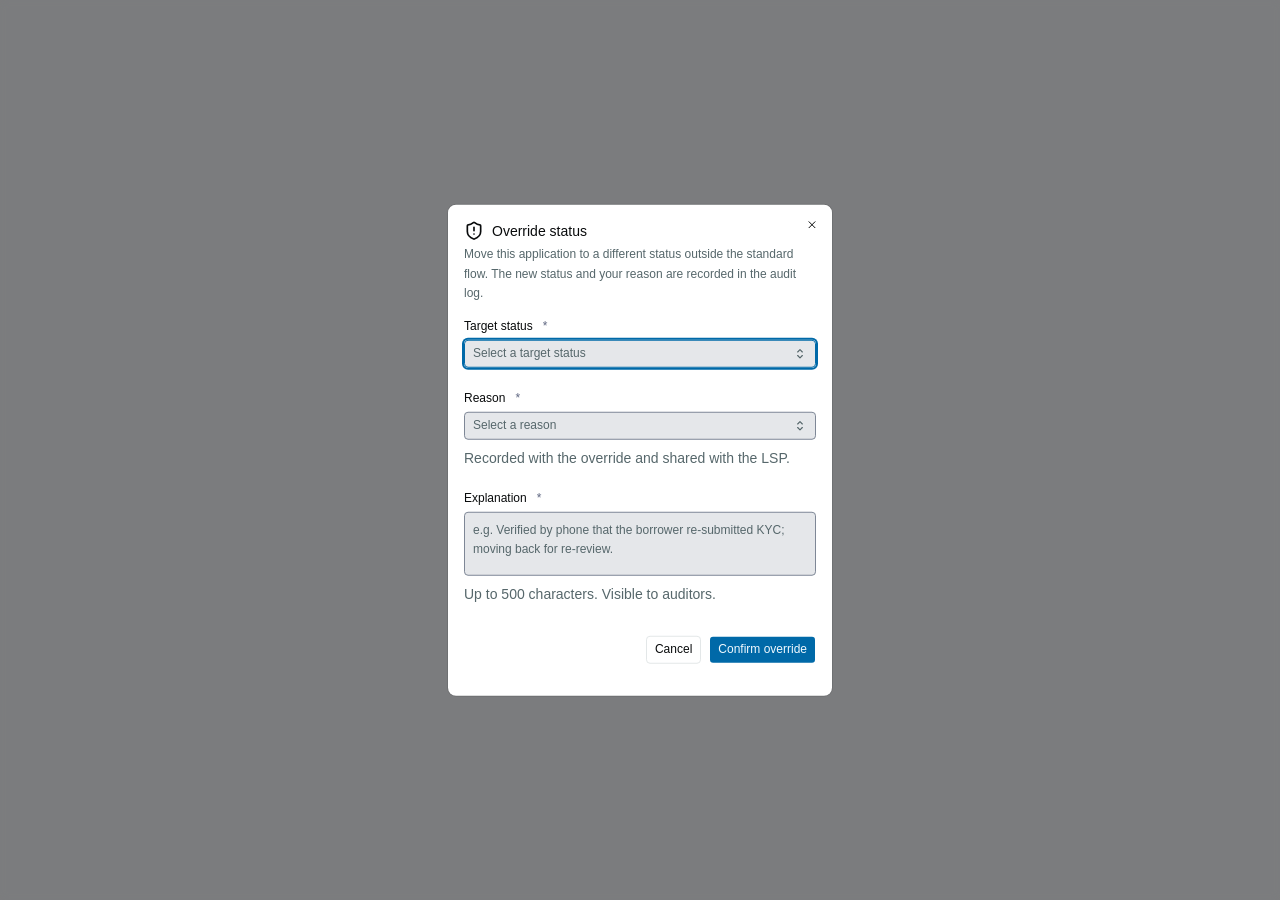
Test: <ManualStatusOverrideDialog /> › blocks submit until target, reason code, and explanation are entered
This screenshot has width=1280, height=900.
Click the button "Confirm override" at (763, 649), box x1=709 y1=635 x2=816 y2=663
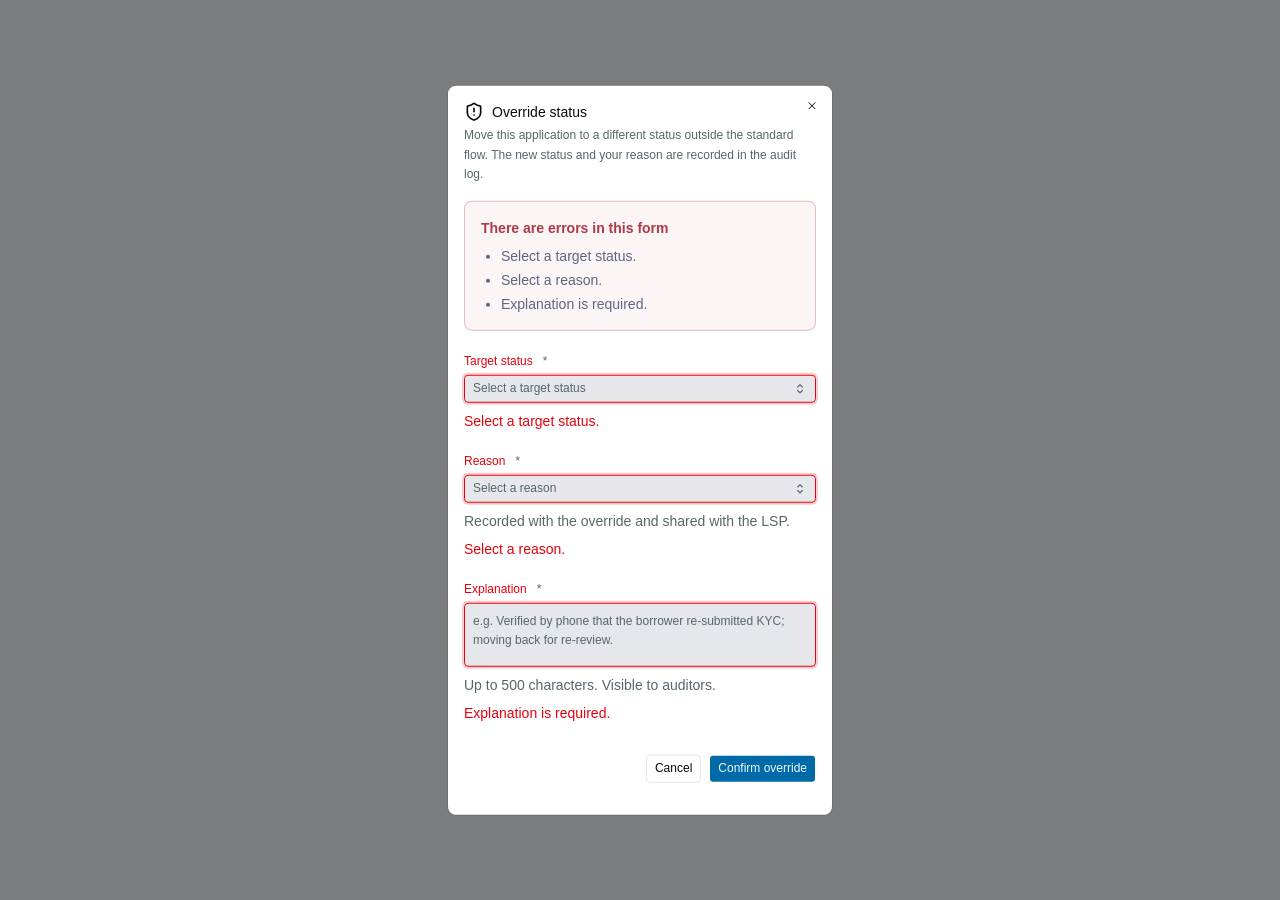
Now the list item "Select a target status." is shown, box x1=501 y1=247 x2=636 y2=263
